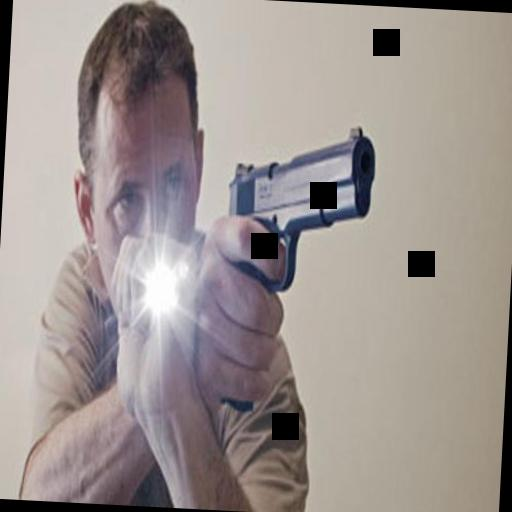Handgun: (204, 110, 380, 421)
